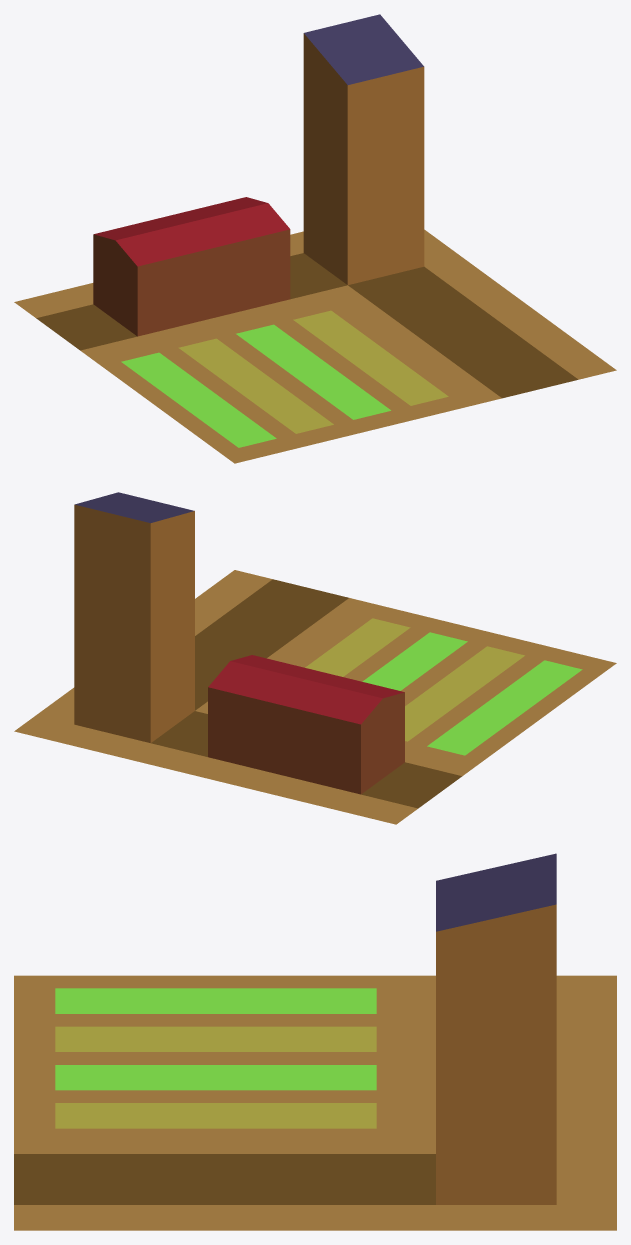
File: farm.glb
3 renders of one model, top to bottom at view 1: azimuth 30°, elevation 25°; view 2: azimuth 150°, elevation 25°; view 3: azimuth 270°, elevation 25°, orthographic. The views are drawn at different scales.
Visible parts, largest first — view 1: Cube; view 2: Cube; view 3: Cube.
Boxes of the visible parts, bbox=[...] form: Cube: bbox=[14, 14, 616, 463]; Cube: bbox=[14, 492, 616, 824]; Cube: bbox=[14, 853, 616, 1230].
Bounding box in the file's own units: 0.1 × 0.055 × 0.1.
